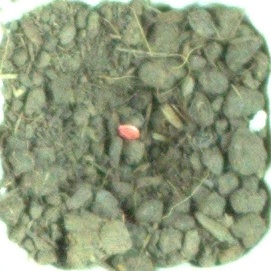chilli seed: (116, 120, 142, 142)
